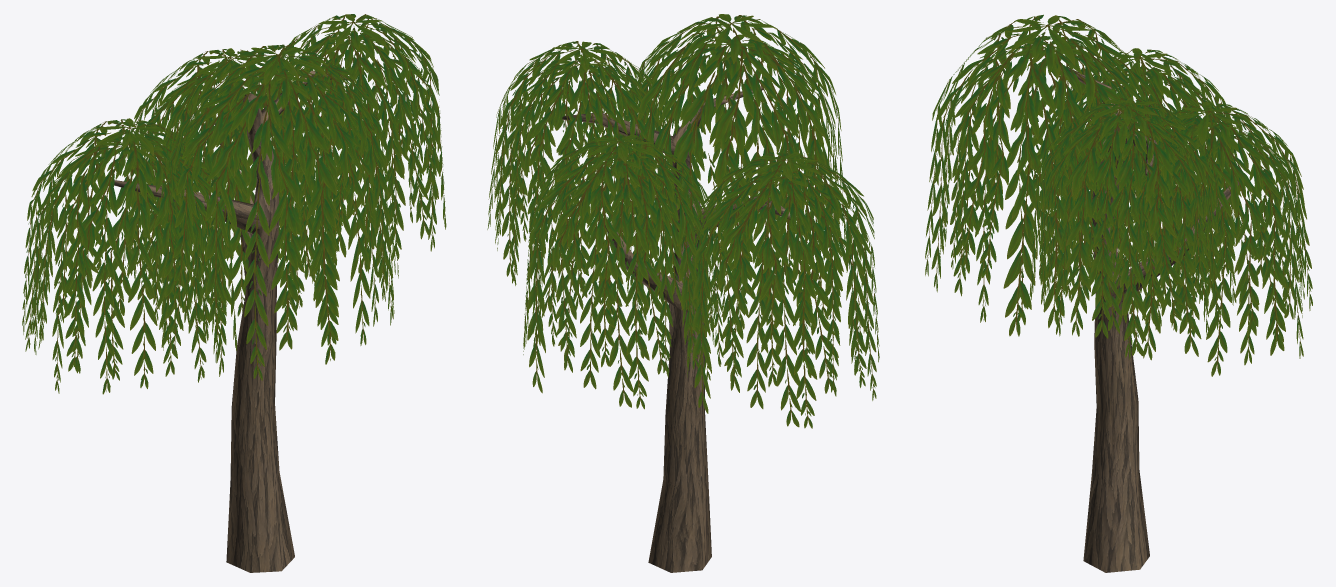
The model's file is Willow01.fbx.
3 views of the same model, side by side, from view 1: azimuth 30°, elevation 25°; view 2: azimuth 150°, elevation 25°; view 3: azimuth 270°, elevation 25° (orthographic). The views are drawn at different scales.
Parts seen in each view (by area): view 1: Willow01_LOD0; view 2: Willow01_LOD0; view 3: Willow01_LOD0.
Boxes of the visible parts, x1,y1,x2,y2 form: Willow01_LOD0: [22, 14, 446, 572]; Willow01_LOD0: [487, 14, 879, 572]; Willow01_LOD0: [925, 14, 1312, 572].
Size of what is drawn, in the model's own units: 2.74 by 3.44 by 2.4.
